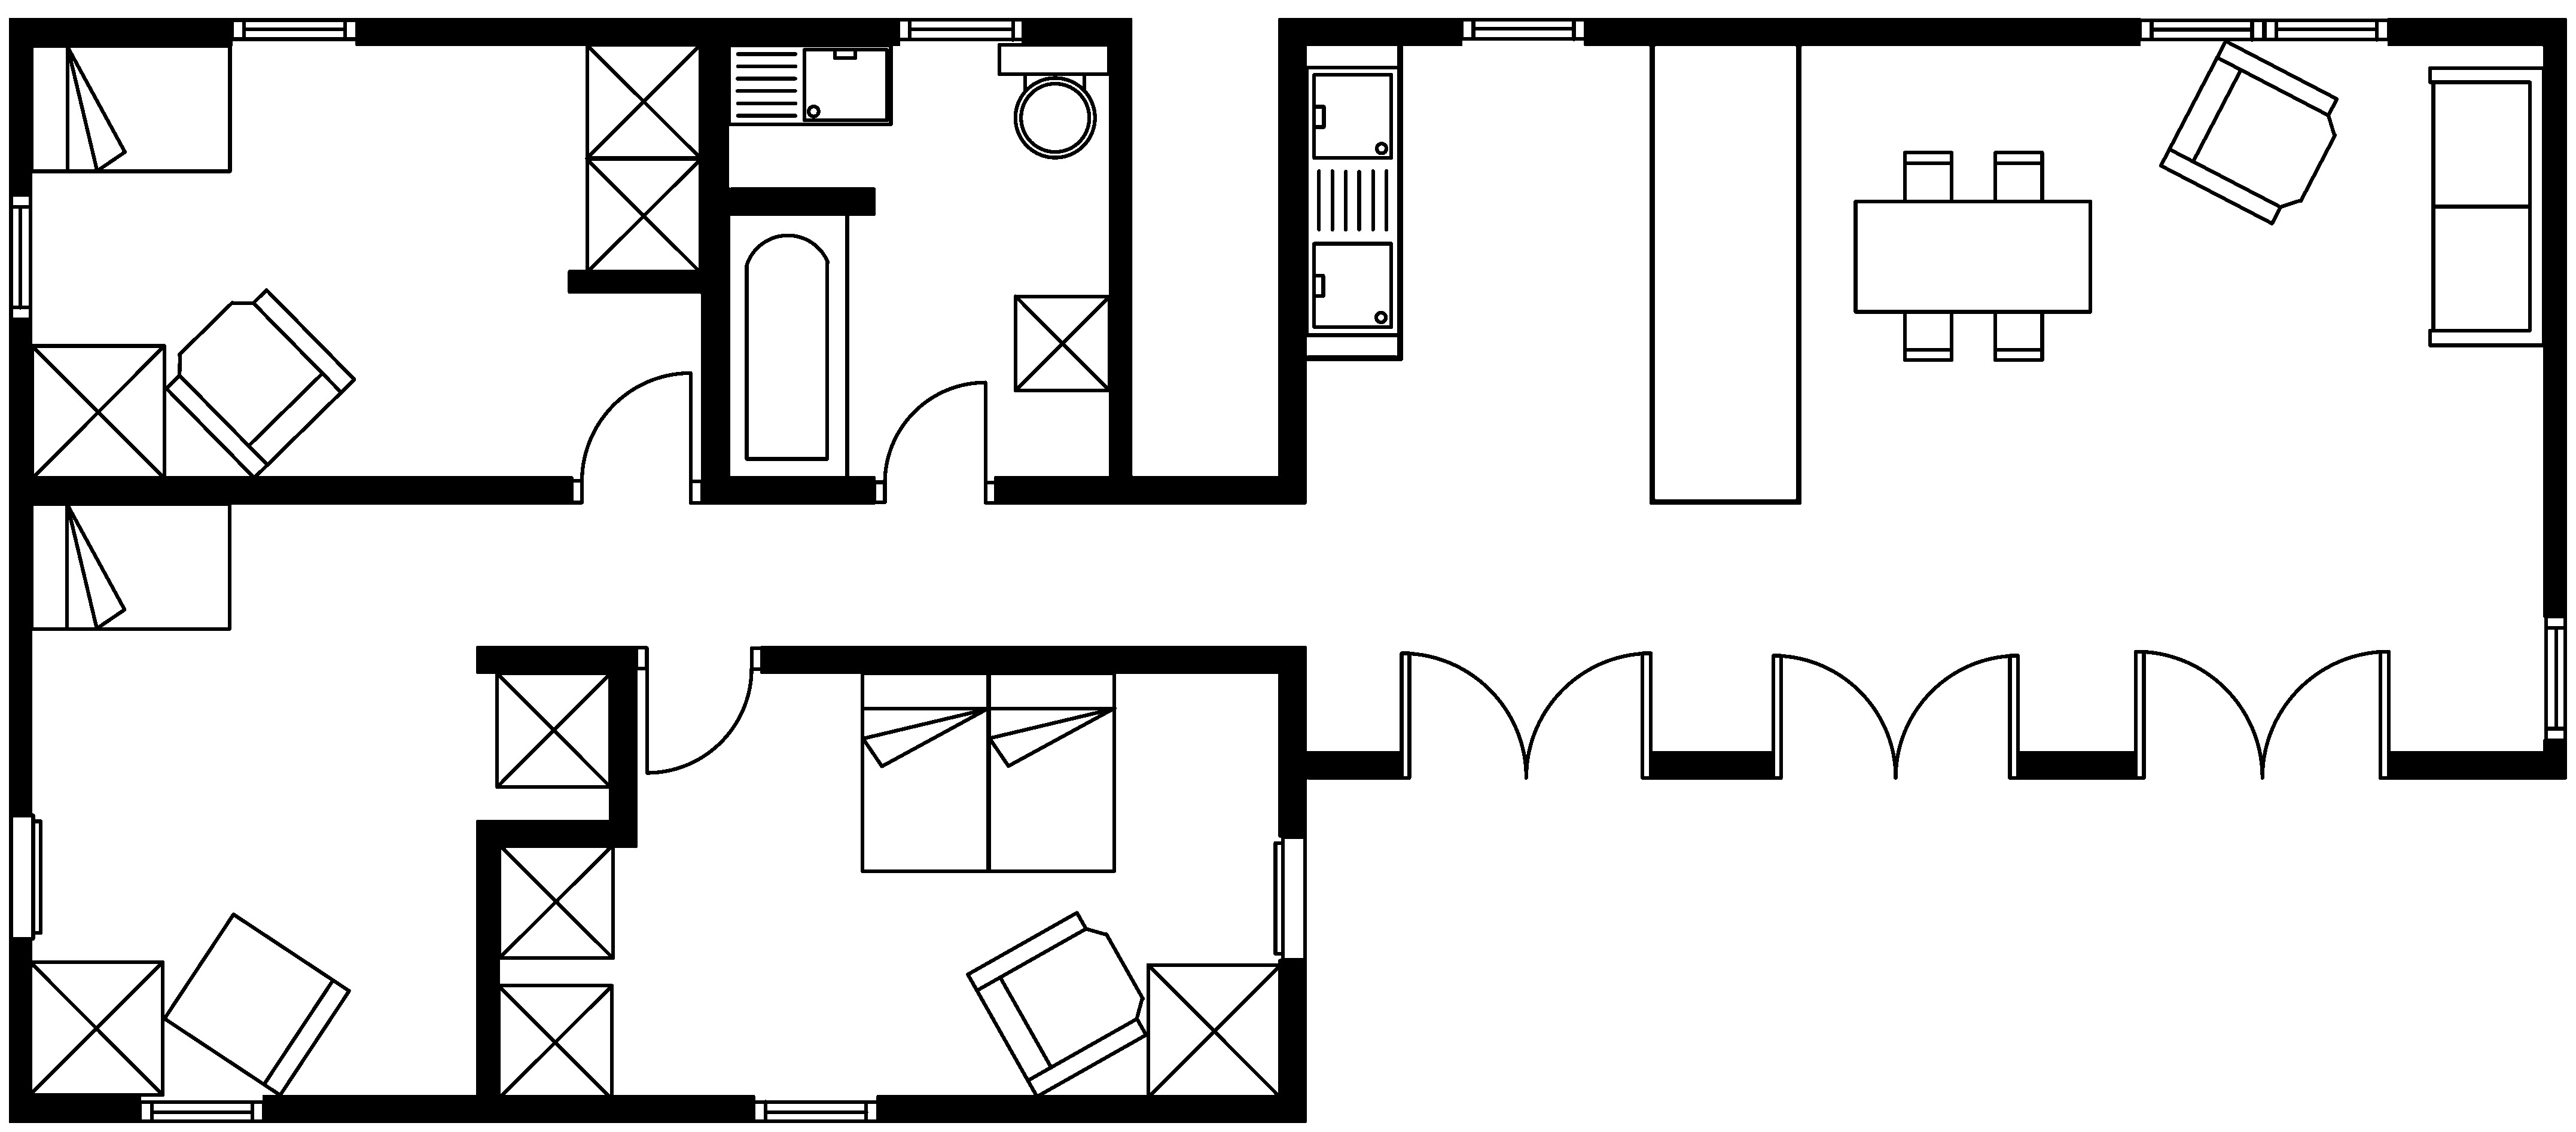armchair: (163, 288, 356, 480), (966, 910, 1148, 1099), (2159, 38, 2339, 225)
bed: (30, 43, 232, 174), (859, 670, 991, 872), (986, 670, 1117, 872), (28, 501, 232, 631)
coffee_table: (26, 959, 164, 1097), (1145, 963, 1283, 1099), (30, 343, 166, 480), (494, 982, 614, 1101), (583, 41, 702, 161), (494, 670, 613, 789), (496, 841, 614, 959), (585, 156, 702, 274), (1012, 294, 1112, 393)
dining_table: (1853, 150, 2093, 361)
large_sink: (997, 41, 1111, 158)
large_sofa: (2426, 66, 2545, 347)
sink: (726, 43, 894, 127)
small_sofa: (161, 912, 352, 1097)
tub: (726, 210, 849, 483)
twin_sink: (1304, 64, 1401, 337)
